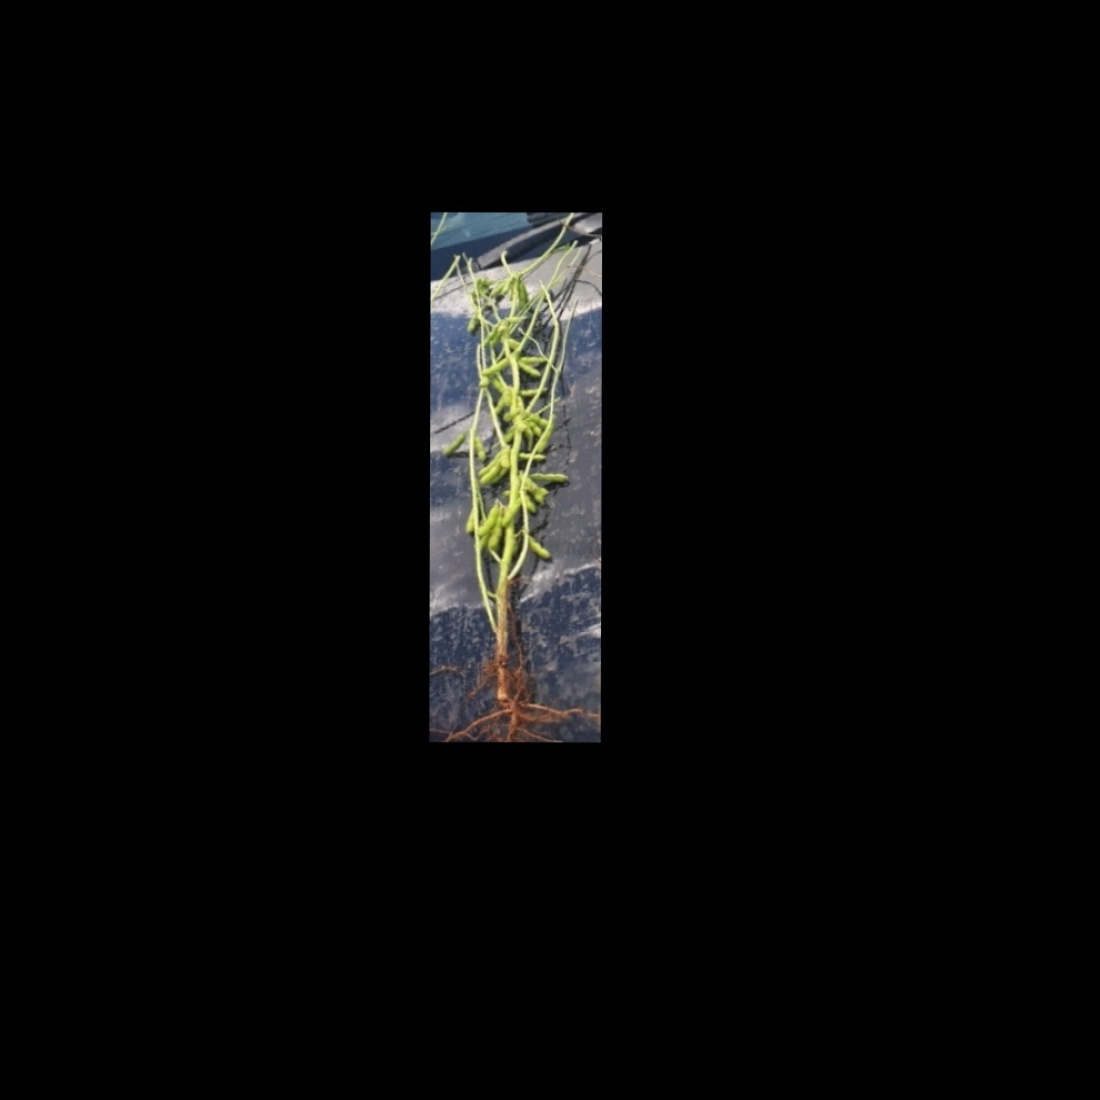pod: (477, 353, 515, 378), (475, 504, 502, 538), (512, 356, 544, 383), (439, 432, 469, 458), (526, 532, 552, 562), (486, 513, 506, 551), (527, 468, 572, 485), (501, 312, 529, 327), (465, 308, 480, 335)
soy: (436, 253, 587, 710)
